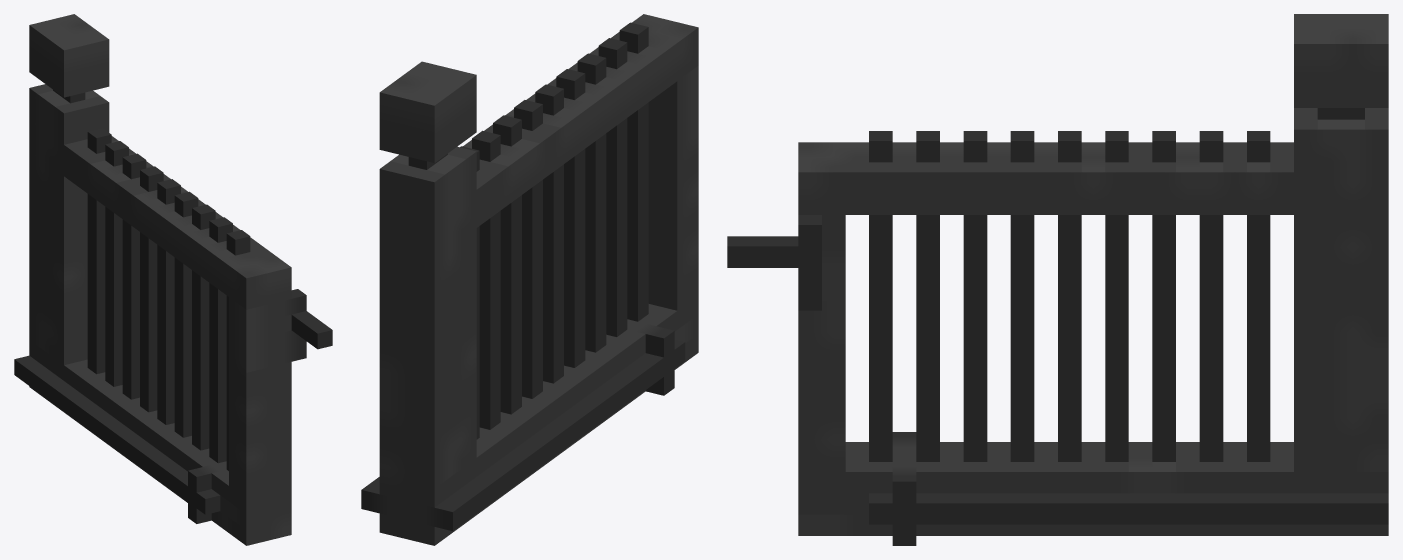
The model's file is fence)move.fbx.
3 views of the same model, side by side, from view 1: azimuth 30°, elevation 25°; view 2: azimuth 150°, elevation 25°; view 3: azimuth 270°, elevation 25° (orthographic). The views are drawn at different scales.
Visible parts, largest first — view 1: fence_move; view 2: fence_move; view 3: fence_move.
Boxes of the visible parts, x1,y1,x2,y2 form: fence_move: (14,14,332,545); fence_move: (361,14,698,545); fence_move: (727,14,1388,545).
Size of the model in its own units: 5 by 23 by 28.
1 material, 1 textured.
